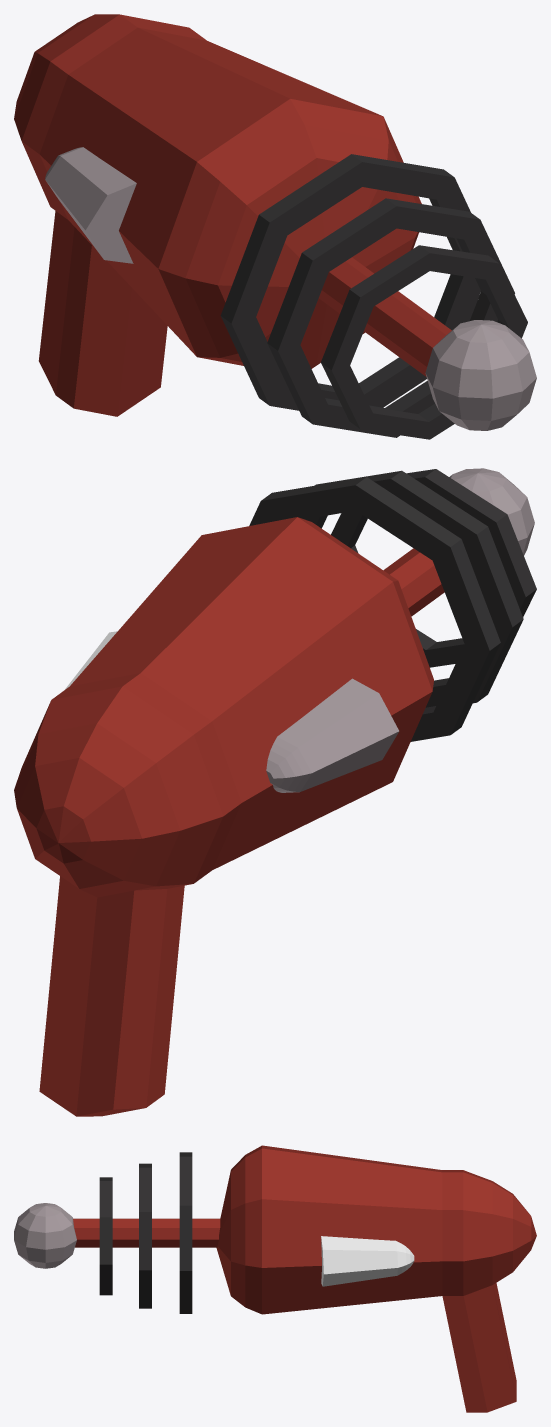
File: 3D raygun.fbx
The picture shows the model from 3 angles, top to bottom: view 1: azimuth 30°, elevation 25°; view 2: azimuth 150°, elevation 25°; view 3: azimuth 270°, elevation 25°; orthographic projection. The views are drawn at different scales.
Parts seen in each view (by area): view 1: Cylinder, Cylinder.002, Cylinder.001, Cylinder.003, Sphere, Cylinder.005; view 2: Cylinder, Cylinder.002, Cylinder.005, Cylinder.001, Cylinder.003, Sphere; view 3: Cylinder, Cylinder.004, Sphere, Cylinder.002, Cylinder.001, Cylinder.003.
Boxes of the visible parts, x1,y1,x2,y2 form: Cylinder: (14, 14, 451, 416); Cylinder.002: (220, 154, 480, 410); Cylinder.001: (267, 198, 514, 437); Cylinder.003: (321, 245, 527, 439); Sphere: (425, 320, 536, 430); Cylinder.005: (45, 147, 136, 263); Cylinder: (14, 517, 444, 1116); Cylinder.002: (249, 477, 500, 741); Cylinder.005: (266, 678, 399, 792); Cylinder.001: (305, 470, 523, 707); Cylinder.003: (331, 469, 536, 667); Sphere: (449, 468, 534, 555); Cylinder: (73, 1145, 536, 1412); Cylinder.004: (321, 1236, 414, 1286); Sphere: (14, 1203, 76, 1268); Cylinder.002: (179, 1152, 192, 1313); Cylinder.001: (139, 1163, 151, 1308); Cylinder.003: (99, 1177, 112, 1295).
Bounding box in the file's own units: 45.05 × 63.4 × 114.
